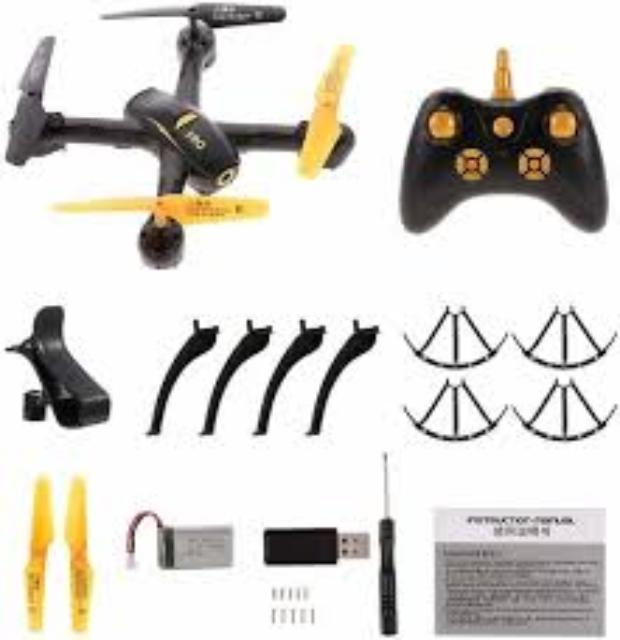drone: (1, 1, 360, 276)
